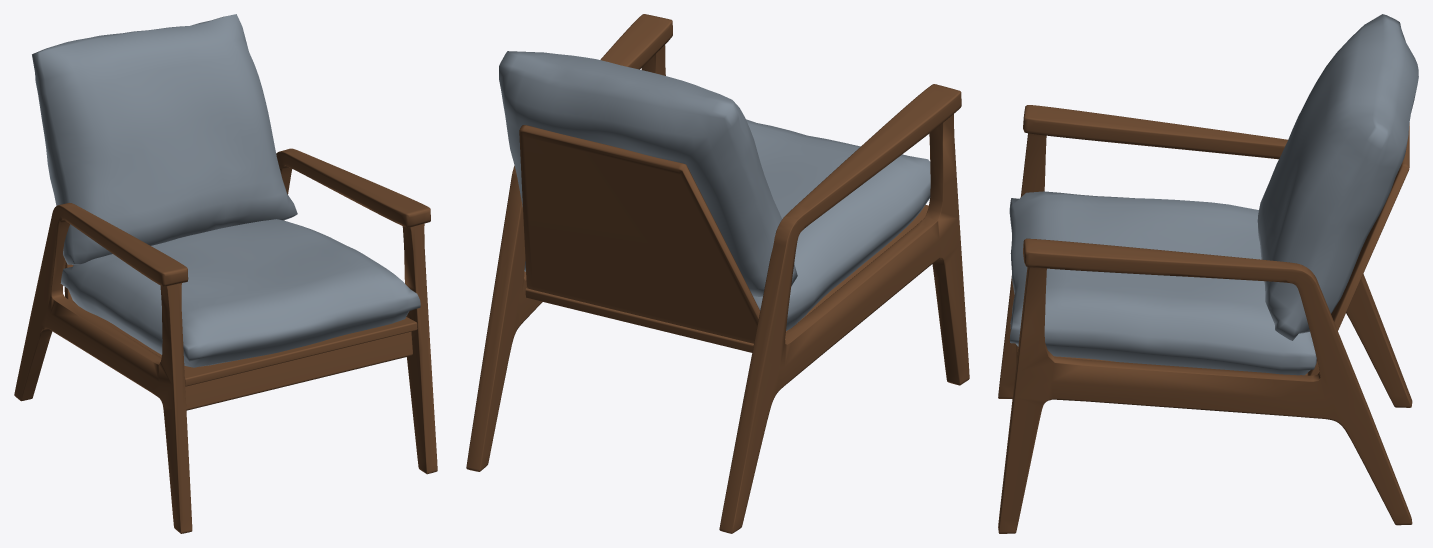
The model's file is sillon.glb.
3 views of the same model, side by side, from view 1: azimuth 30°, elevation 25°; view 2: azimuth 150°, elevation 25°; view 3: azimuth 270°, elevation 25° (orthographic). The views are drawn at different scales.
Visible parts, largest first — view 1: sillon; view 2: sillon; view 3: sillon.
Boxes of the visible parts, box(x1,y1,x2,y2) form: sillon: box(14, 14, 437, 533); sillon: box(466, 14, 969, 533); sillon: box(998, 14, 1418, 533).
Size of the model in its own units: 0.8203 by 1.02 by 0.9866.
